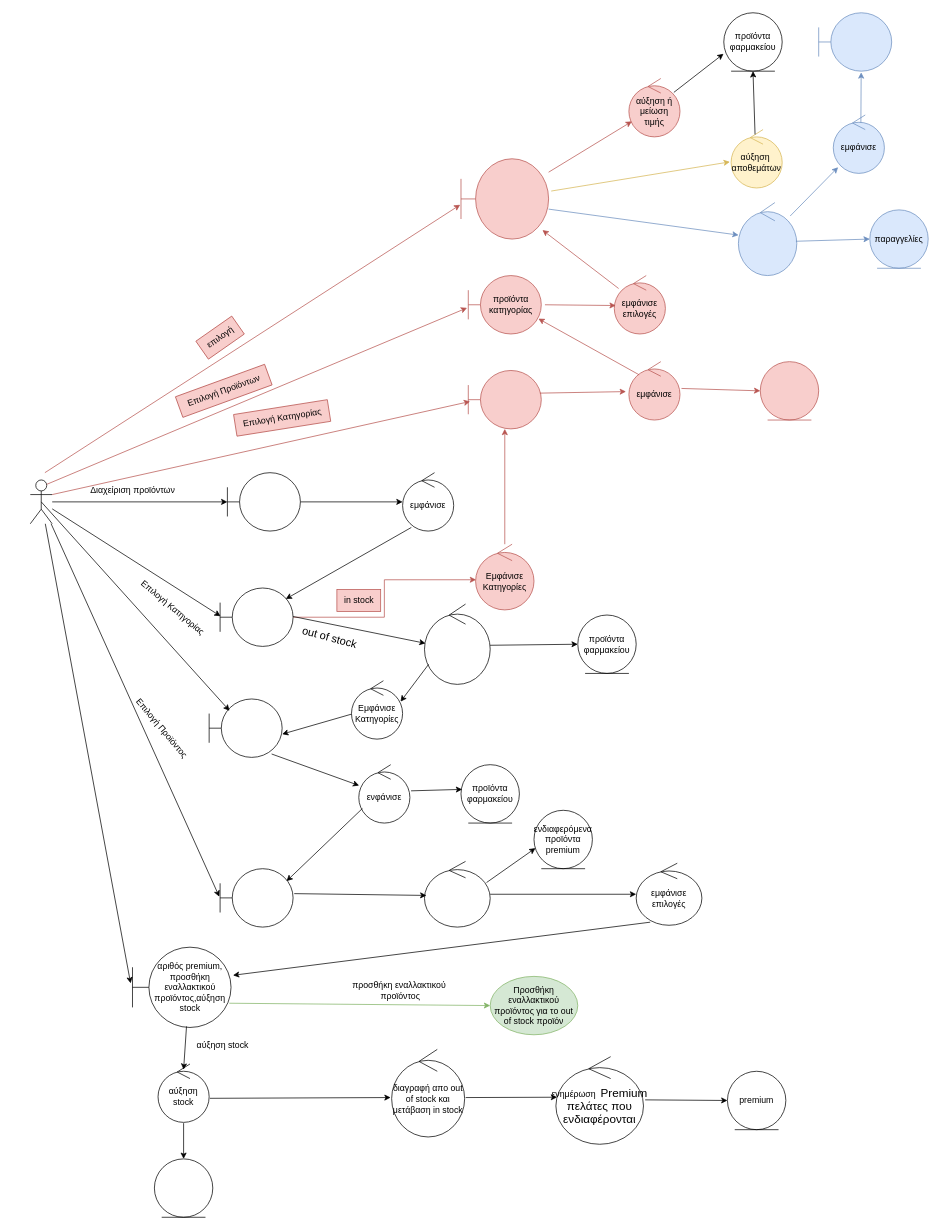
Some shapes in this 941 by 1230 pixel diagram are drawn without their labels. The box of each missing label's shape, as (x1, y1, x2, y2) in pixels:
in stock ή out of stock: (219, 587, 293, 646)
out of stock προϊόντα: (219, 868, 293, 927)
αρηθμός πωλήσεων: (818, 12, 892, 71)
αρχική οθόνη: (227, 472, 300, 531)
Αύξηση μείωση τιμής, Αύξηση αποθεμάτων, και Αριθμό πωλήσεων: (460, 158, 549, 239)
κατηγορίες: (208, 698, 282, 757)
Κατηγορίες Προϊόντων: (468, 370, 541, 429)
προϊόντα: (760, 361, 819, 420)
προϊόντα φαμρακείου: (154, 1158, 213, 1217)
Υπολογισμός αριθμού πωλήσεων: (738, 202, 797, 276)
υπολόγισε out of stock προϊόοντα σε κάθε κατηγορία: (424, 603, 490, 684)
υπολόγισε πόσοι premium ενδιαφέρονται: (424, 861, 490, 927)
φαρμακοποιός: (30, 479, 52, 524)
